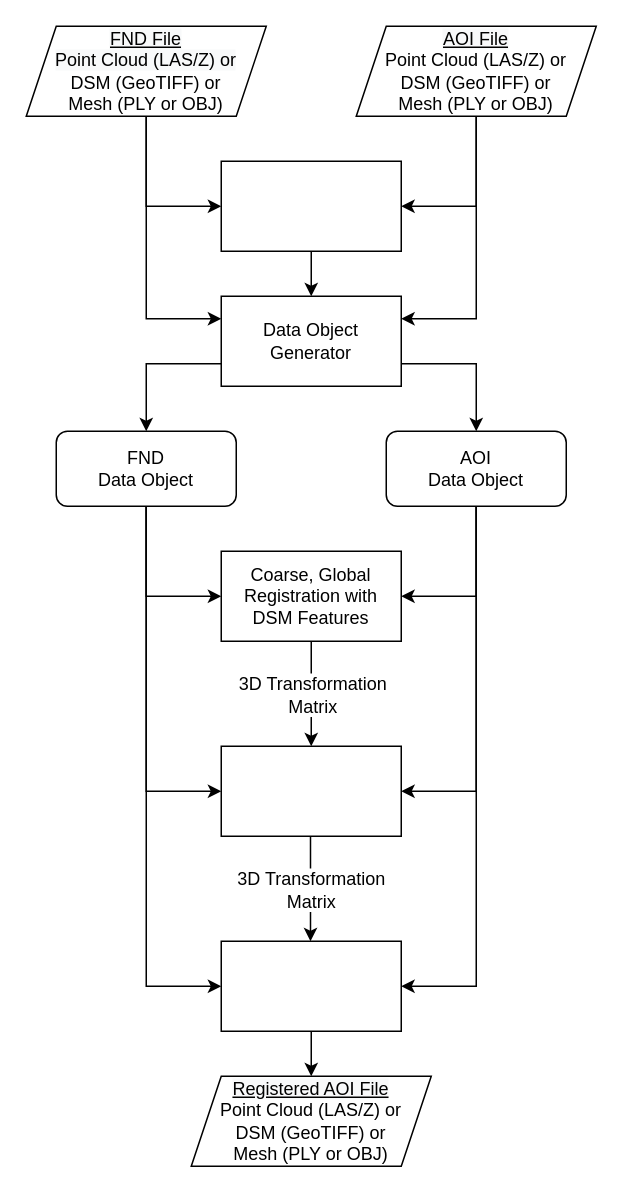
The diagram is 623 pixels wide and 1193 high, and some of its shapes have lost their labels. Here are the shapes that lost their labels. From the top down, the centre of each, then its label:
At (310,205): "Data Resolution Detection".
At (310,790): "Fine, Local Registration with Point to Plane ICP".
At (310,985): "AOI File Registration".
